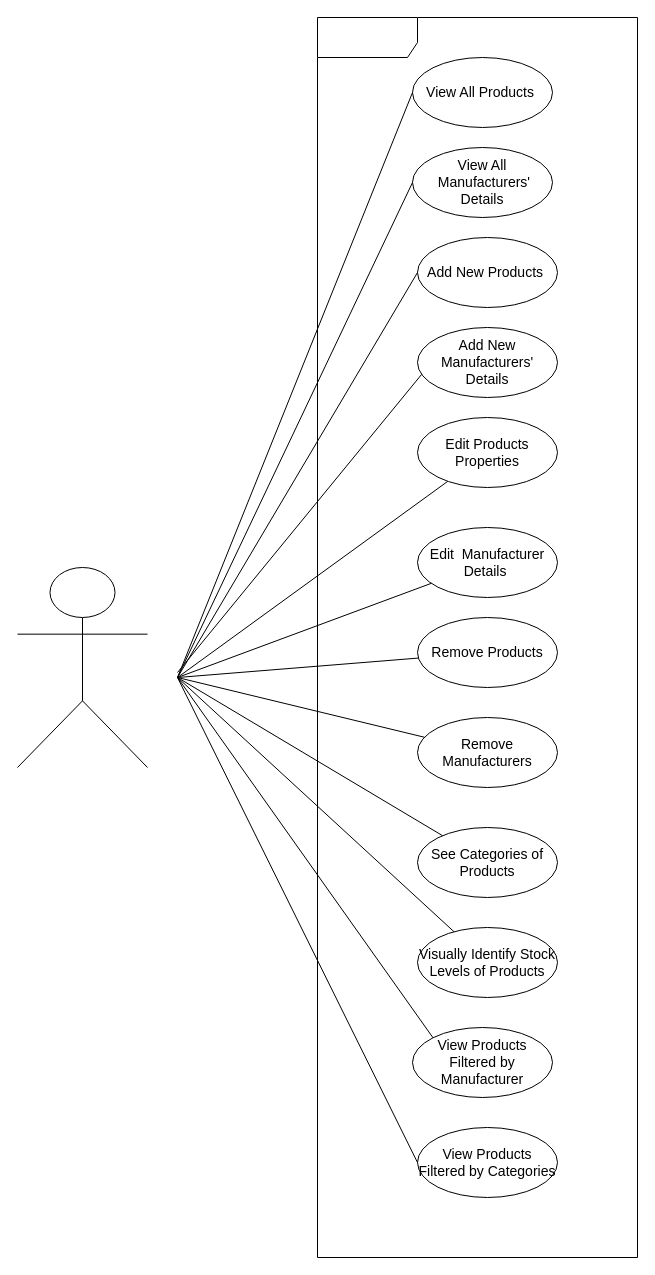
The diagram is 655 pixels wide and 1275 high, and some of its shapes have lost their labels. The box of each missing label's shape, as (x1, y1, x2, y2) in pixels:
Shop Inventory Management: (316, 16, 638, 1258)
Shop Keeper: (16, 566, 148, 768)
